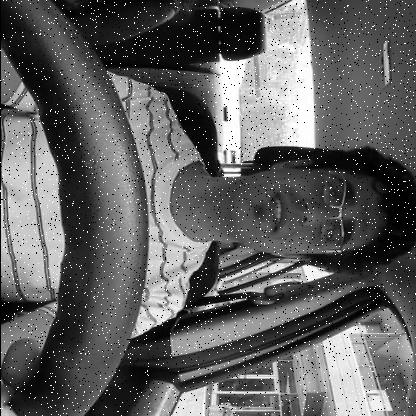no_seatbelt: (0, 134, 414, 306)
